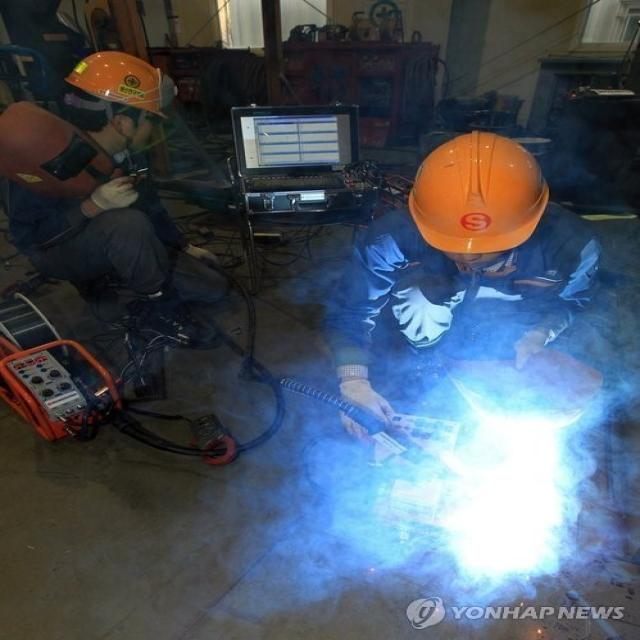welding: (455, 410, 550, 574)
